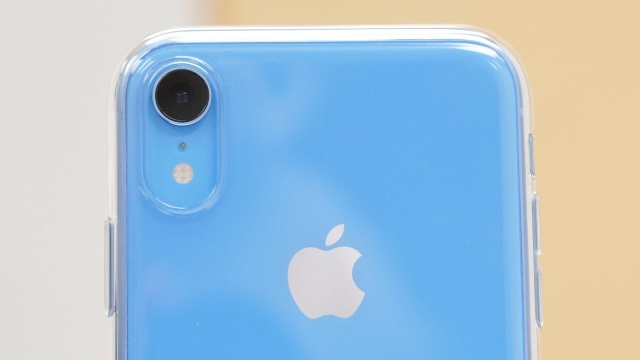apple: (274, 210, 374, 332)
